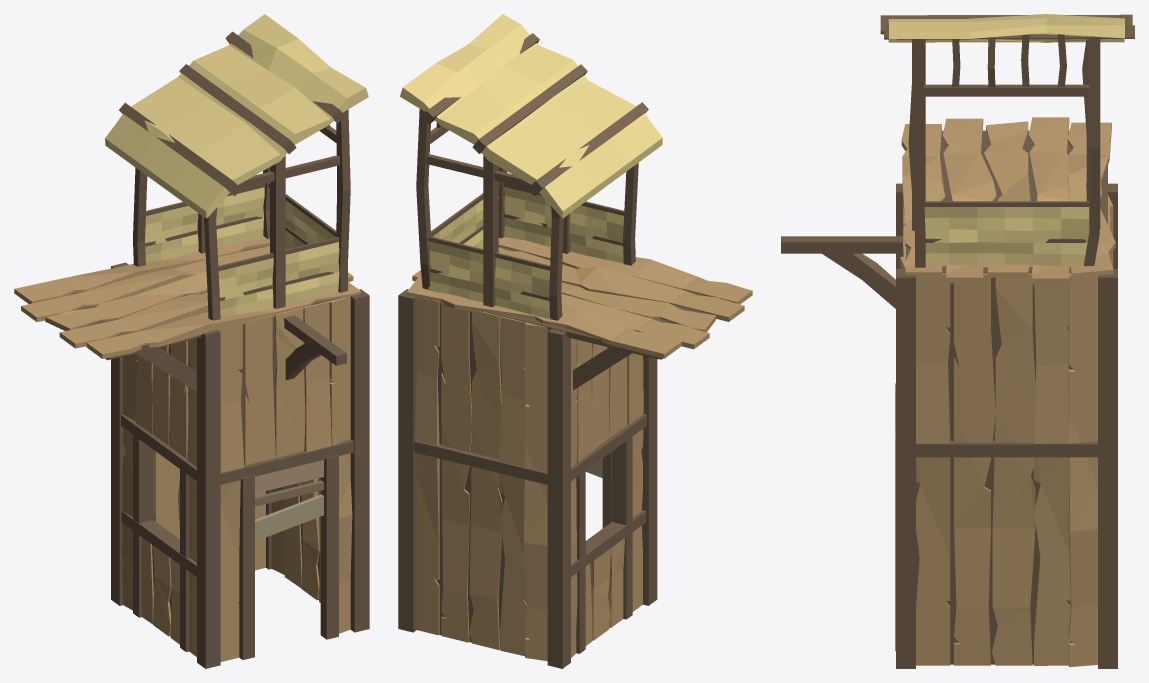
Rendered from Hut_4.fbx.
The picture shows the model from 3 angles, left to right: view 1: azimuth 30°, elevation 25°; view 2: azimuth 150°, elevation 25°; view 3: azimuth 270°, elevation 25°; orthographic projection. The views are drawn at different scales.
Parts seen in each view (by area): view 1: Hut_4; view 2: Hut_4; view 3: Hut_4.
Part boxes in pixels (x1=…): Hut_4: x1=14, y1=14, x2=369, y2=668; Hut_4: x1=398, y1=14, x2=752, y2=668; Hut_4: x1=781, y1=14, x2=1134, y2=668.
Bounding box in the file's own units: 351 × 649 × 325.
1 material, 1 textured.
